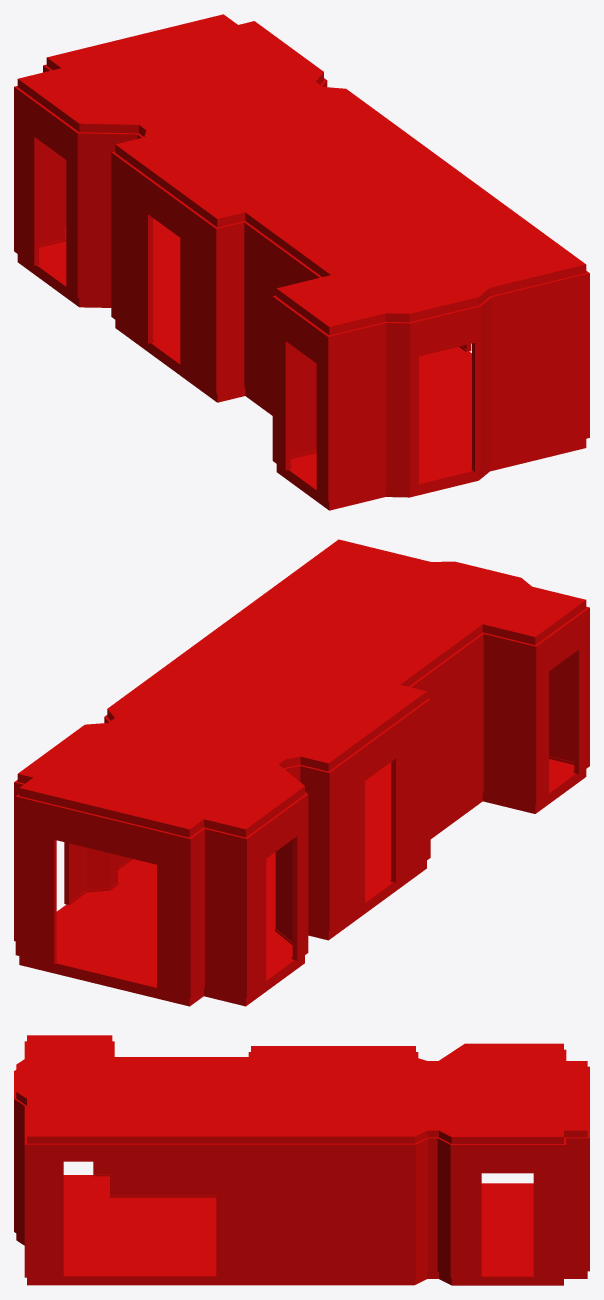
The model's file is Hallway_Prototype_1.fbx.
3 views of the same model, one above another, from view 1: azimuth 30°, elevation 25°; view 2: azimuth 150°, elevation 25°; view 3: azimuth 270°, elevation 25° (orthographic). The views are drawn at different scales.
Visible parts, largest first — view 1: walls, ceiling, floor; view 2: walls, ceiling, floor; view 3: walls, ceiling, floor, floor_baseboard.
Boxes of the visible parts, left/top/right/bottom form: walls: left=14, top=64, right=589, bottom=501; ceiling: left=17, top=14, right=586, bottom=335; floor: left=17, top=218, right=586, bottom=510; walls: left=14, top=606, right=589, bottom=997; ceiling: left=17, top=539, right=586, bottom=837; floor: left=19, top=759, right=586, bottom=1006; walls: left=14, top=1041, right=589, bottom=1277; ceiling: left=16, top=1035, right=587, bottom=1143; floor: left=16, top=1175, right=587, bottom=1285; floor_baseboard: left=93, top=1174, right=216, bottom=1197.
Size of the model in its own units: 433 by 289 by 1018.
